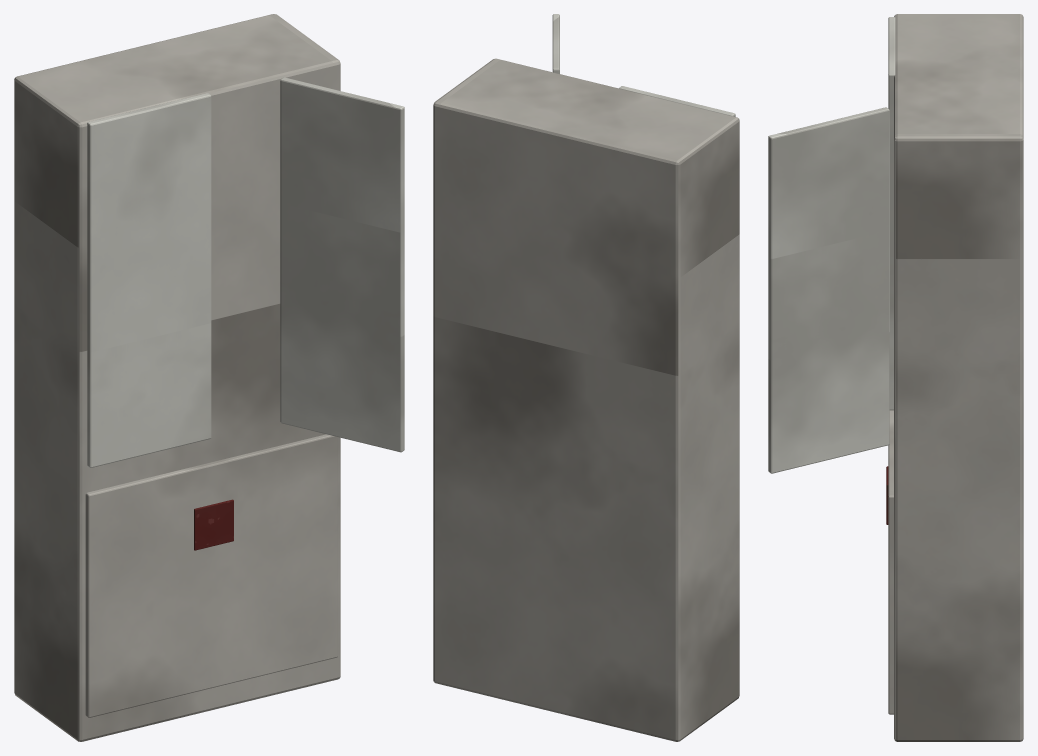
File: H06_medicine_cabinet.glb
3 renders of one model, left to right at view 1: azimuth 30°, elevation 25°; view 2: azimuth 150°, elevation 25°; view 3: azimuth 270°, elevation 25°, orthographic. The views are drawn at different scales.
Parts seen in each view (by area): view 1: H06_medicine_cabinet; view 2: H06_medicine_cabinet; view 3: H06_medicine_cabinet.
Boxes of the visible parts, x1,y1,x2,y2 form: H06_medicine_cabinet: (14,14,404,741); H06_medicine_cabinet: (433,14,739,741); H06_medicine_cabinet: (768,14,1023,741).
Bounding box in the file's own units: 0.8 × 1.8 × 0.6886.
Materials: 6 (6 with a texture image).
